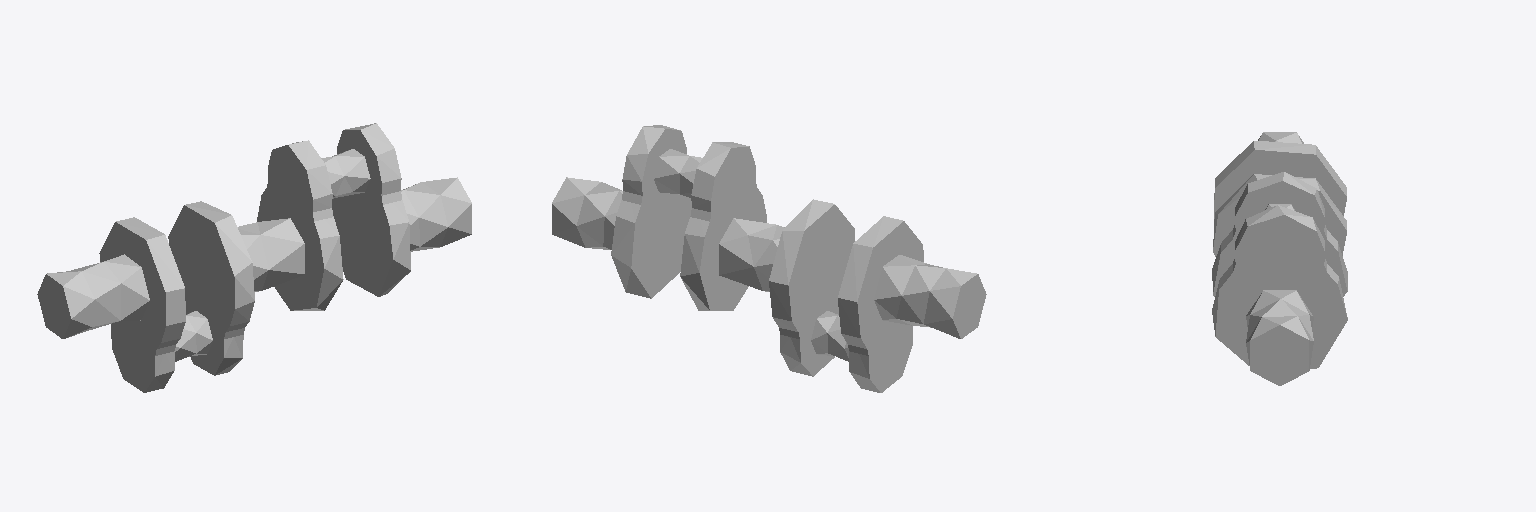
The model's file is shaft.obj.
3 views of the same model, side by side, from view 1: azimuth 30°, elevation 25°; view 2: azimuth 150°, elevation 25°; view 3: azimuth 270°, elevation 25° (orthographic).
Bounding box in the file's own units: 205 × 98.58 × 59.97.